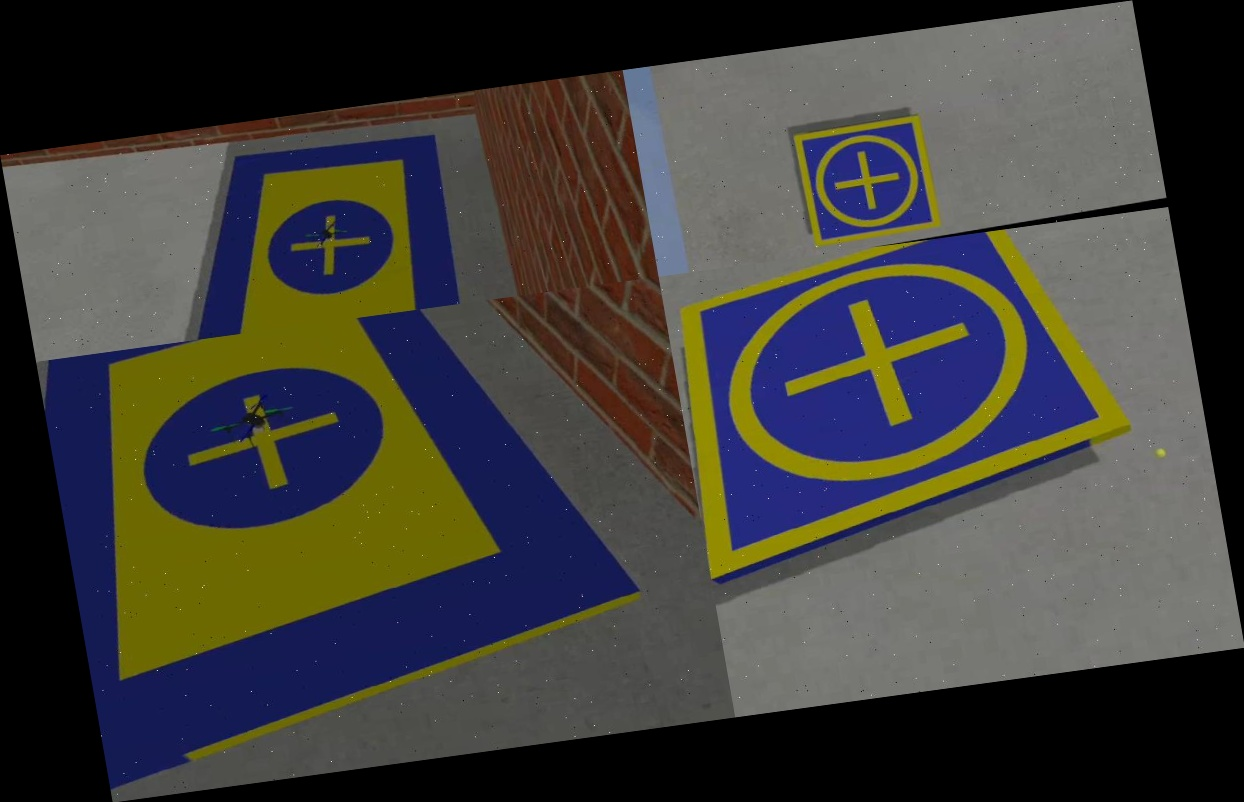large_base: (36, 286, 668, 801), (136, 120, 471, 344)
small_base: (659, 216, 1154, 586), (790, 113, 946, 249)
